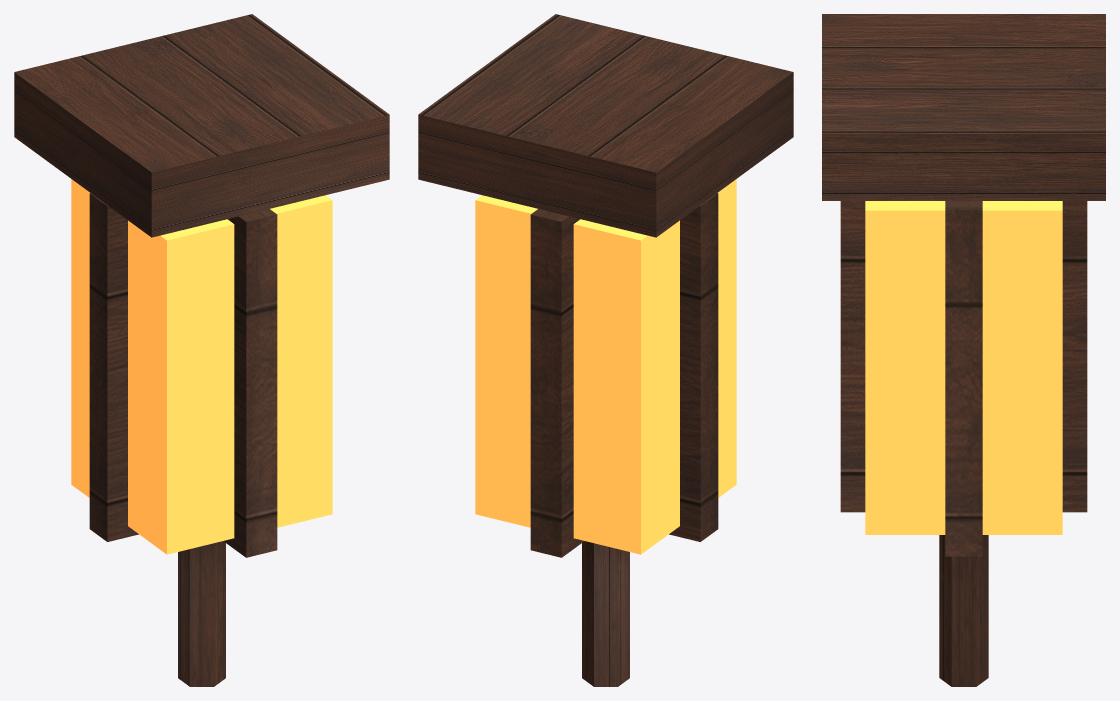
File: palace_lantern.glb
3 views of the same model, side by side, from view 1: azimuth 30°, elevation 25°; view 2: azimuth 150°, elevation 25°; view 3: azimuth 270°, elevation 25° (orthographic). The views are drawn at different scales.
Visible parts, largest first — view 1: PalaceLanternBody, PalaceLanternCap, PalaceLanternFrameZ, PalaceLanternFrameX, PalaceLanternTail; view 2: PalaceLanternBody, PalaceLanternCap, PalaceLanternFrameZ, PalaceLanternFrameX, PalaceLanternTail; view 3: PalaceLanternBody, PalaceLanternCap, PalaceLanternFrameZ, PalaceLanternFrameX, PalaceLanternTail.
Part boxes in pixels (x1,y1,x2,y2): PalaceLanternBody: (71,179,332,554); PalaceLanternCap: (14,14,389,237); PalaceLanternFrameZ: (223,209,277,557); PalaceLanternFrameX: (89,193,138,541); PalaceLanternTail: (178,541,225,686); PalaceLanternBody: (475,179,736,554); PalaceLanternCap: (418,14,793,237); PalaceLanternFrameZ: (530,209,584,557); PalaceLanternFrameX: (669,193,718,541); PalaceLanternTail: (582,541,629,686); PalaceLanternBody: (865,201,1062,534); PalaceLanternCap: (822,14,1105,200); PalaceLanternFrameZ: (840,201,1087,512); PalaceLanternFrameX: (945,201,982,556); PalaceLanternTail: (939,535,988,686).
Bounding box in the file's own units: 0.46 × 1.08 × 0.46.
2 materials, 1 textured.
